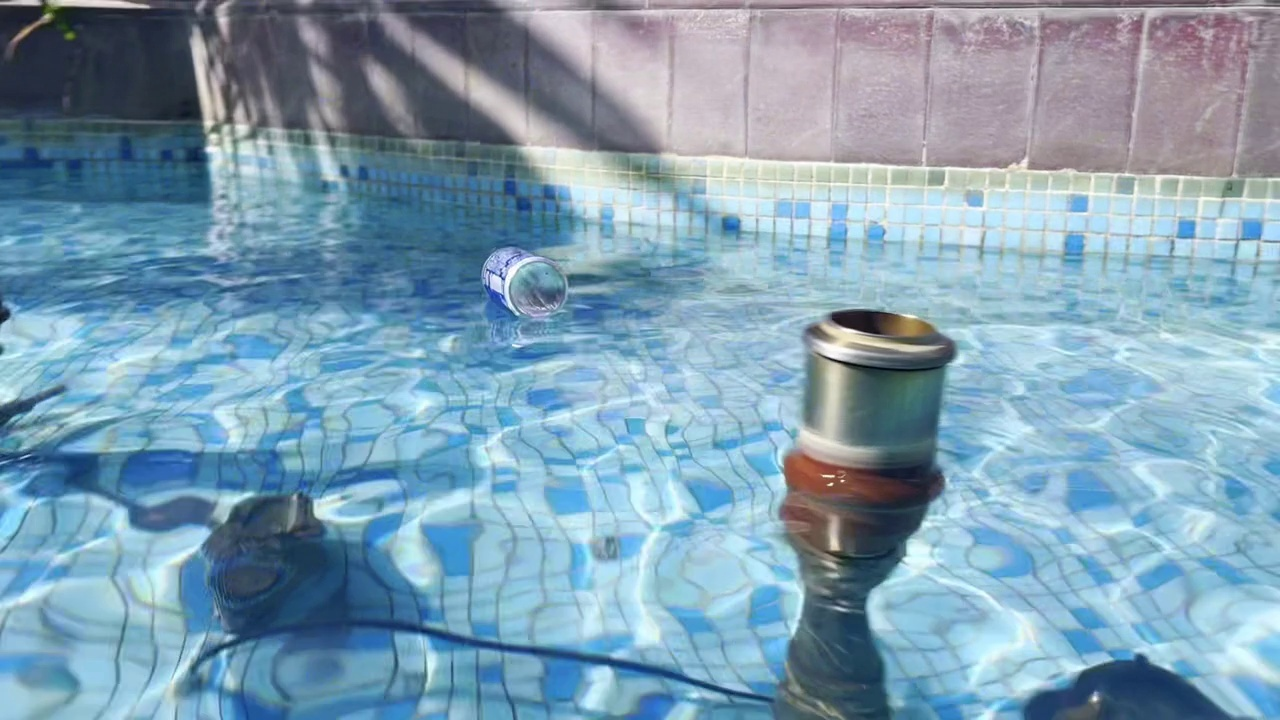debris: (468, 244, 571, 326)
